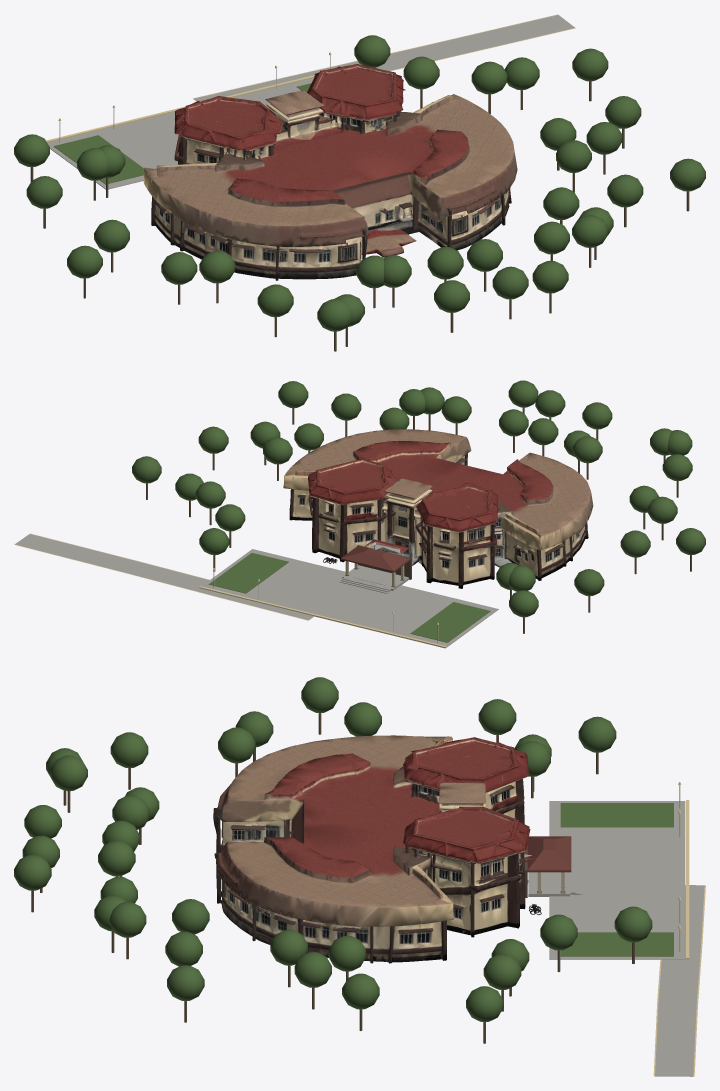
Rendered from gallery.glb.
3 renders of one model, top to bottom at view 1: azimuth 30°, elevation 25°; view 2: azimuth 150°, elevation 25°; view 3: azimuth 270°, elevation 25°, orthographic. The views are drawn at different scales.
Visible parts, largest first — view 1: Lecture gallery sculpt, Entrance forecourt, Gallery approach asphalt, Forecourt lawn, Gallery perimeter canopy, Gallery perimeter canopy.006, Gallery perimeter canopy.010, Gallery perimeter canopy.015, Gallery perimeter canopy.007, Gallery perimeter canopy.030, Gallery perimeter canopy.020, Gallery perimeter canopy.027 (+24 smaller); view 2: Lecture gallery sculpt, Entrance forecourt, Gallery approach asphalt, Forecourt lawn, Forecourt lawn.001, Gallery porch roof, Gallery porch landing, Forecourt kerb, Gallery perimeter canopy.025, Gallery perimeter canopy.001, Gallery perimeter canopy.020, Gallery perimeter canopy.004 (+27 smaller); view 3: Lecture gallery sculpt, Entrance forecourt, Gallery approach asphalt, Forecourt lawn, Forecourt lawn.001, Gallery porch roof, Gallery perimeter canopy.014, Gallery perimeter canopy.018, Gallery perimeter canopy.009, Gallery perimeter canopy.022, Gallery perimeter canopy, Gallery perimeter canopy.003 (+25 smaller).
Boxes of the visible parts, bbox=[...] form: Lecture gallery sculpt: bbox=[143, 64, 517, 280]; Entrance forecourt: bbox=[47, 78, 313, 189]; Gallery approach asphalt: bbox=[193, 15, 574, 101]; Forecourt lawn: bbox=[53, 135, 144, 184]; Gallery perimeter canopy: bbox=[199, 250, 235, 283]; Gallery perimeter canopy.006: bbox=[427, 246, 463, 279]; Gallery perimeter canopy.010: bbox=[543, 187, 579, 220]; Gallery perimeter canopy.015: bbox=[471, 61, 507, 94]; Gallery perimeter canopy.007: bbox=[532, 260, 568, 293]; Gallery perimeter canopy.030: bbox=[492, 266, 528, 299]; Gallery perimeter canopy.020: bbox=[161, 252, 197, 284]; Gallery perimeter canopy.027: bbox=[257, 284, 293, 317]; Lecture gallery sculpt: bbox=[283, 429, 593, 588]; Entrance forecourt: bbox=[201, 549, 498, 646]; Gallery approach asphalt: bbox=[15, 534, 314, 620]; Forecourt lawn: bbox=[410, 602, 490, 642]; Forecourt lawn.001: bbox=[209, 553, 288, 593]; Gallery porch roof: bbox=[341, 546, 409, 570]; Gallery porch landing: bbox=[342, 565, 408, 590]; Forecourt kerb: bbox=[199, 586, 446, 648]; Gallery perimeter canopy.025: bbox=[331, 393, 361, 420]; Gallery perimeter canopy.001: bbox=[441, 396, 471, 423]; Gallery perimeter canopy.020: bbox=[647, 496, 677, 523]; Gallery perimeter canopy.004: bbox=[582, 402, 612, 429]; Lecture gallery sculpt: bbox=[213, 735, 541, 963]; Entrance forecourt: bbox=[549, 801, 685, 959]; Gallery approach asphalt: bbox=[655, 885, 704, 1076]; Forecourt lawn: bbox=[560, 803, 673, 827]; Forecourt lawn.001: bbox=[560, 932, 673, 956]; Gallery porch roof: bbox=[527, 836, 570, 870]; Gallery perimeter canopy.014: bbox=[614, 906, 652, 942]; Gallery perimeter canopy.018: bbox=[483, 954, 521, 989]; Gallery perimeter canopy.009: bbox=[478, 699, 516, 735]; Gallery perimeter canopy.022: bbox=[301, 677, 338, 713]; Gallery perimeter canopy: bbox=[218, 727, 255, 763]; Gallery perimeter canopy.003: bbox=[342, 973, 379, 1009].
Size of the model in its own units: 147 by 17.31 by 122.
11 materials, 1 textured.
